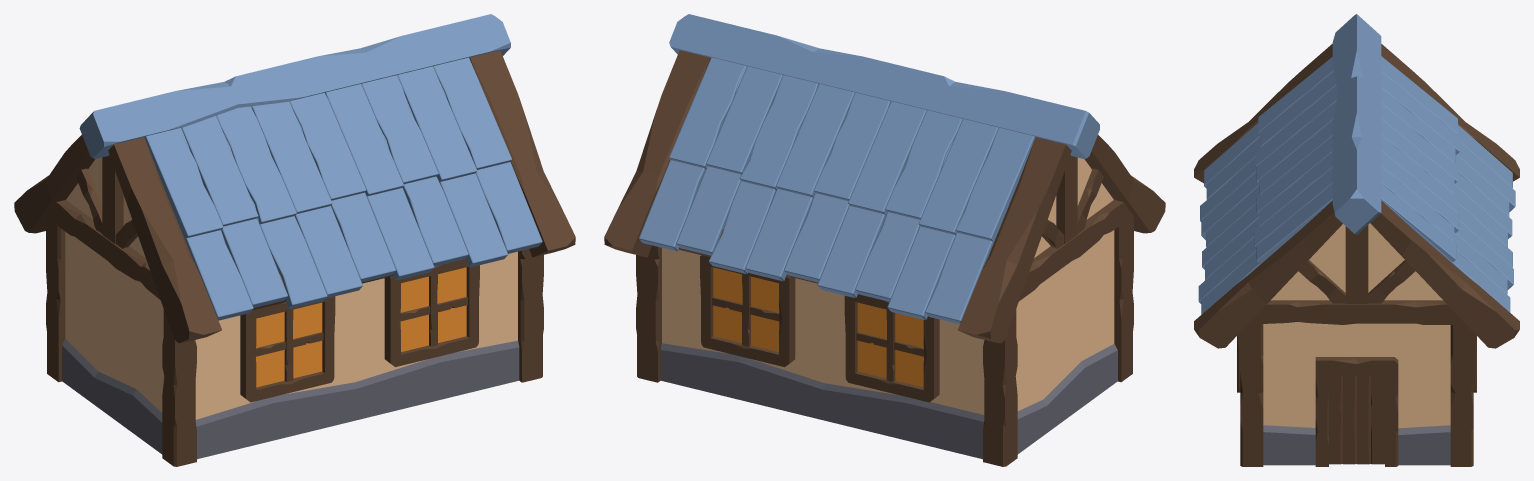
Rendered from HOUSE_1 1.fbx.
3 views of the same model, side by side, from view 1: azimuth 30°, elevation 25°; view 2: azimuth 150°, elevation 25°; view 3: azimuth 270°, elevation 25° (orthographic). The views are drawn at different scales.
Visible parts, largest first — view 1: Cube.009, Cube.008, Cube, Cube.001, Cube.005, Plane.011, Plane, Plane.003, Plane.007, Plane.008, Plane.005, Cube.002 (+4 smaller); view 2: Cube.010, Cube.006, Cube, Cube.001, Cube.005, Plane.011, Plane, Plane.003, Plane.007, Plane.008, Plane.005, Cube.002 (+4 smaller); view 3: Cube, Cube.001, Cube.009, Cube.010, Plane.011, Cube.006, Cube.008, Plane, Plane.002, Cube.002, Cube.005, Plane.001 (+2 smaller).
Part boxes in pixels (x1,y1,x2,y2): Cube.009: (145, 57, 511, 237); Cube.008: (145, 85, 542, 320); Cube: (65, 157, 517, 419); Cube.001: (14, 50, 575, 343); Cube.005: (62, 339, 519, 459); Plane.011: (79, 14, 510, 158); Plane: (46, 218, 543, 466); Plane.003: (384, 258, 479, 367); Plane.007: (240, 296, 335, 402); Plane.008: (256, 302, 322, 387); Plane.005: (400, 267, 466, 351); Cube.002: (46, 200, 160, 299); Cube.010: (669, 57, 1035, 241); Cube.006: (639, 66, 1001, 324); Cube: (662, 157, 1114, 414); Cube.001: (604, 50, 1165, 343); Cube.005: (660, 343, 1117, 459); Plane.011: (669, 14, 1099, 158); Plane: (636, 218, 1133, 466); Plane.003: (700, 255, 795, 367); Plane.007: (844, 294, 939, 402); Plane.008: (857, 302, 923, 387); Plane.005: (713, 267, 779, 351); Cube.002: (1019, 200, 1133, 301); Cube: (1263, 223, 1450, 428); Cube.001: (1194, 44, 1519, 348); Cube.009: (1254, 57, 1337, 264); Cube.010: (1357, 56, 1459, 261); Plane.011: (1332, 14, 1381, 234); Cube.006: (1381, 125, 1515, 312); Cube.008: (1198, 71, 1333, 314); Plane: (1240, 324, 1473, 466); Plane.002: (1329, 376, 1384, 464); Cube.002: (1248, 300, 1466, 324); Cube.005: (1263, 425, 1450, 465); Plane.001: (1315, 357, 1398, 466).
Size of the model in its own units: 1136 by 836 by 872.
